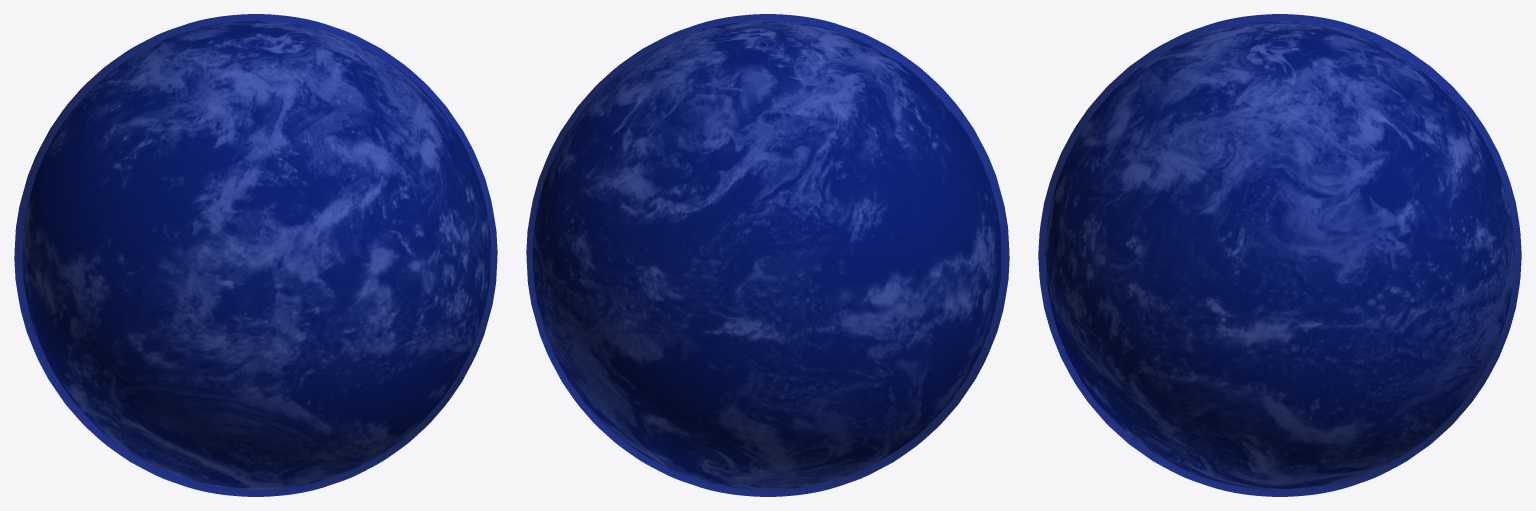
File: earth.obj
The picture shows the model from 3 angles, left to right: view 1: azimuth 30°, elevation 25°; view 2: azimuth 150°, elevation 25°; view 3: azimuth 270°, elevation 25°; orthographic projection.
Parts seen in each view (by area): view 1: Atmosphere_Sphere.002, Clouds_Sphere.001; view 2: Atmosphere_Sphere.002, Clouds_Sphere.001; view 3: Atmosphere_Sphere.002, Clouds_Sphere.001.
Boxes of the visible parts, x1,y1,x2,y2 form: Atmosphere_Sphere.002: (14,14,497,496); Clouds_Sphere.001: (22,21,490,489); Atmosphere_Sphere.002: (526,14,1009,496); Clouds_Sphere.001: (533,21,1001,489); Atmosphere_Sphere.002: (1038,14,1521,496); Clouds_Sphere.001: (1045,21,1514,489).
Bounding box in the file's own units: 2.08 × 2.08 × 2.08.
